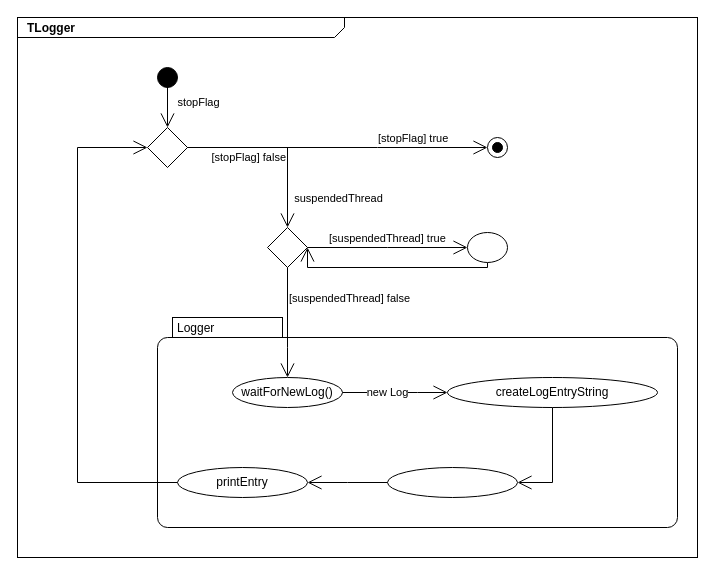
Image size: 715x575. Some labels were removed from this diagram. Here are the shapes that lost their labels. From the top down, the centre of each, then its label:
At pixel 487 247: "wait()".
At pixel 452 482: "writeToFile".
